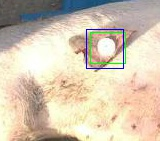text: (90, 32, 125, 63)
